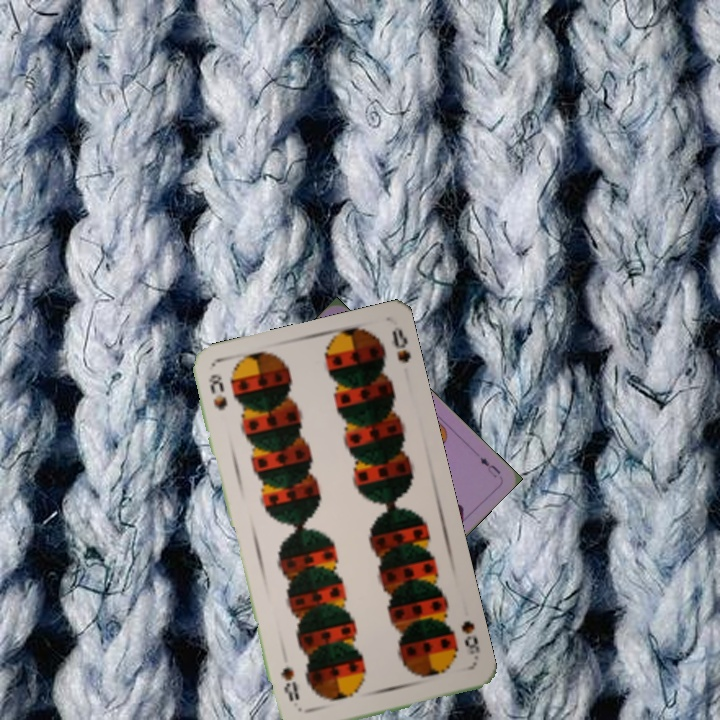EU: (476, 453, 503, 481)
S8: (457, 616, 483, 666), (204, 370, 230, 414)
